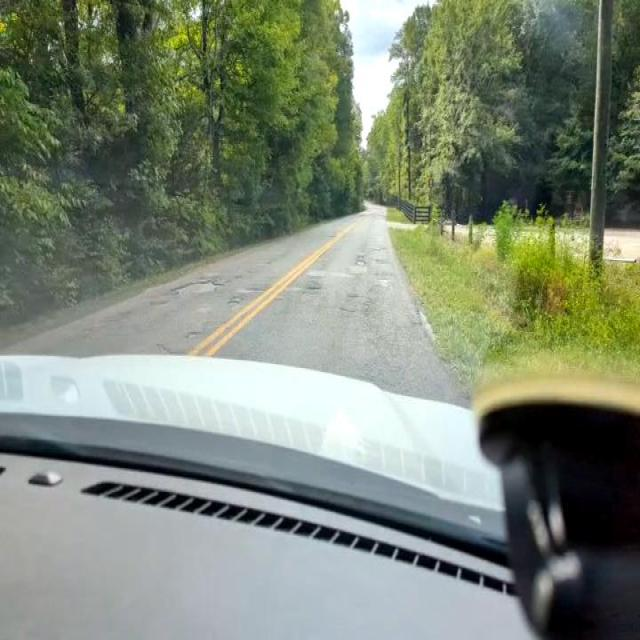pothole: (172, 272, 218, 303), (301, 266, 329, 305), (183, 322, 205, 350), (351, 252, 372, 271), (227, 289, 245, 311)
